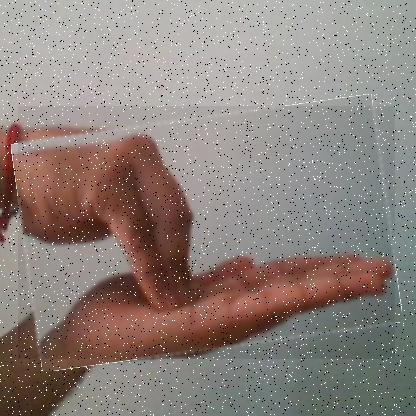Z: (18, 106, 396, 360)
